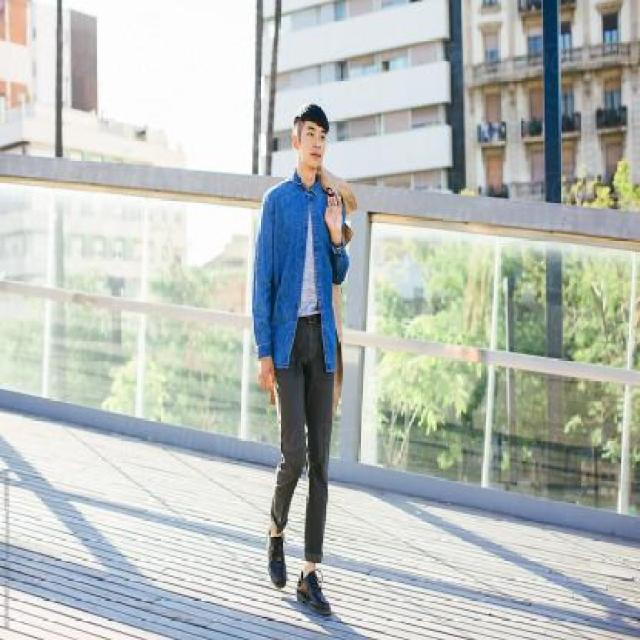sem_oculos: (298, 120, 330, 145)
